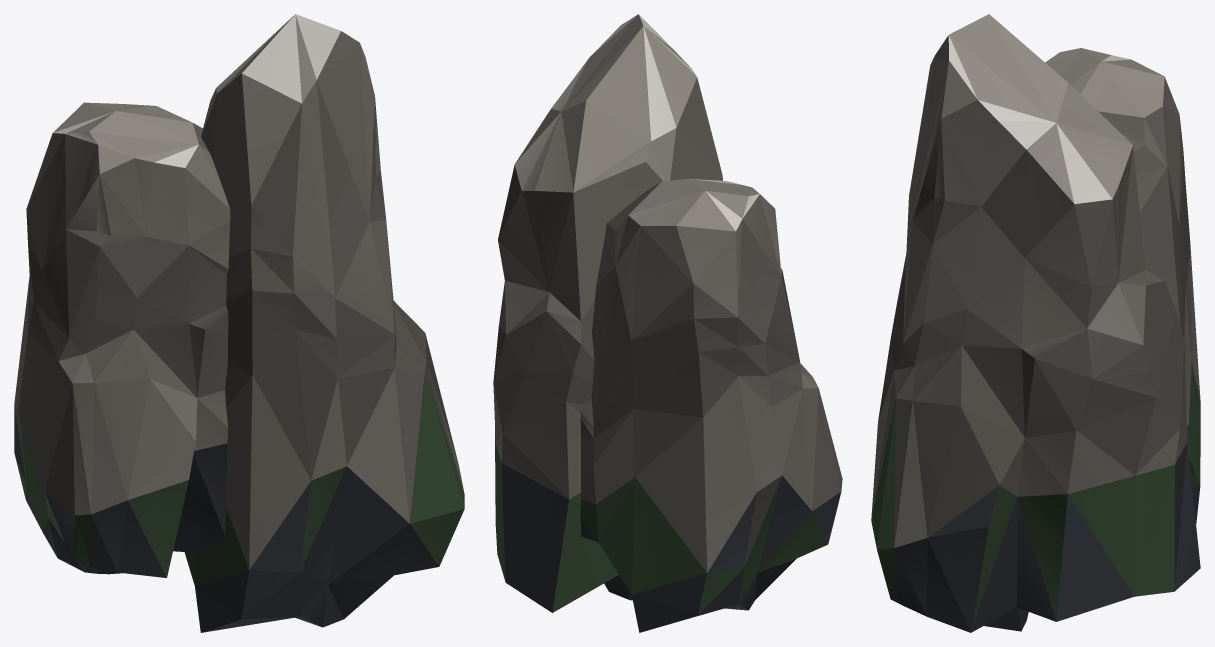
File: Sea_Stack_B.glb
3 views of the same model, side by side, from view 1: azimuth 30°, elevation 25°; view 2: azimuth 150°, elevation 25°; view 3: azimuth 270°, elevation 25° (orthographic). The views are drawn at different scales.
Parts seen in each view (by area): view 1: Sea_Stack_B; view 2: Sea_Stack_B; view 3: Sea_Stack_B.
Part boxes in pixels (left/top/right/bottom): Sea_Stack_B: left=14, top=14, right=464, bottom=632; Sea_Stack_B: left=493, top=14, right=842, bottom=632; Sea_Stack_B: left=871, top=14, right=1200, bottom=632.
Bounding box in the file's own units: 2.12 × 3.4 × 1.67.
